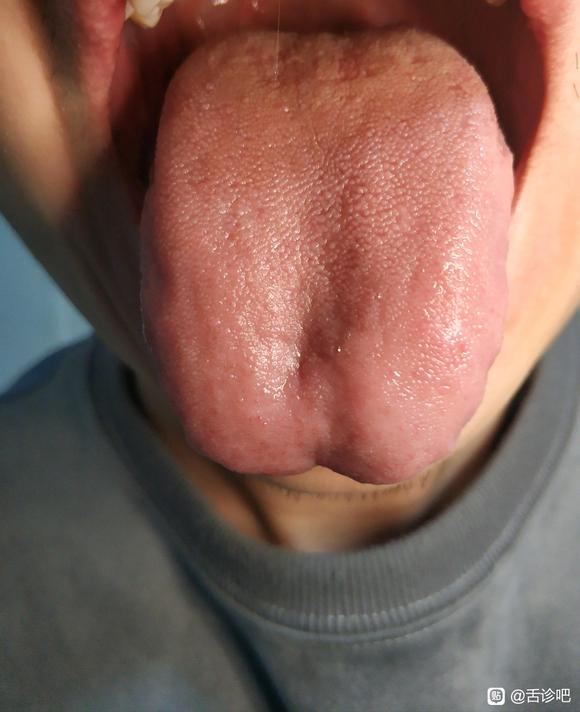baitaishe: (140, 26, 513, 484)
hongshe: (140, 26, 513, 484)
piweiao: (277, 250, 375, 393)
xinfeiao: (247, 439, 386, 485)
